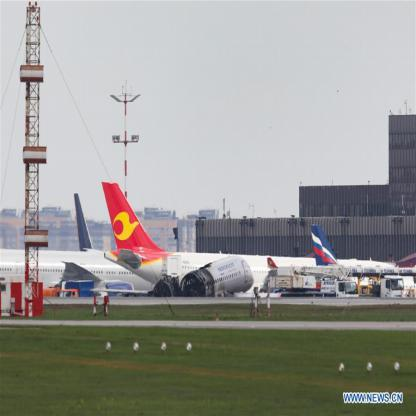CIV_Plane: (97, 177, 312, 332), (307, 216, 410, 297)
